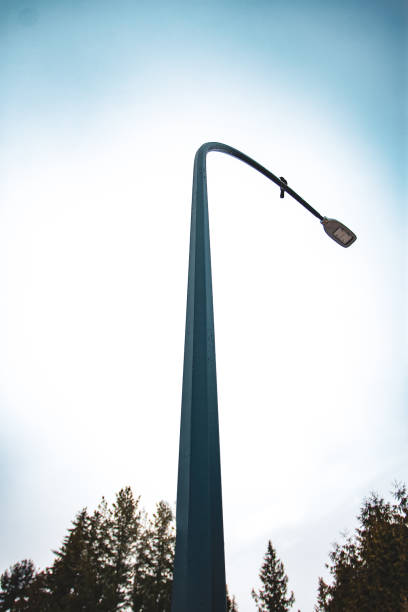light_pole: (170, 142, 230, 612)
